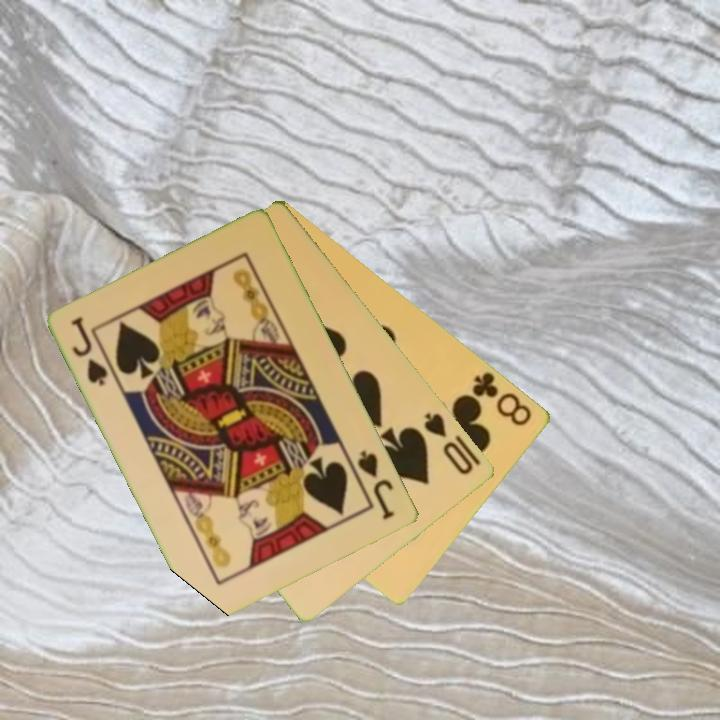10s: (421, 408, 477, 478)
8c: (469, 368, 535, 429)
Js: (354, 446, 399, 523), (68, 313, 111, 389)
